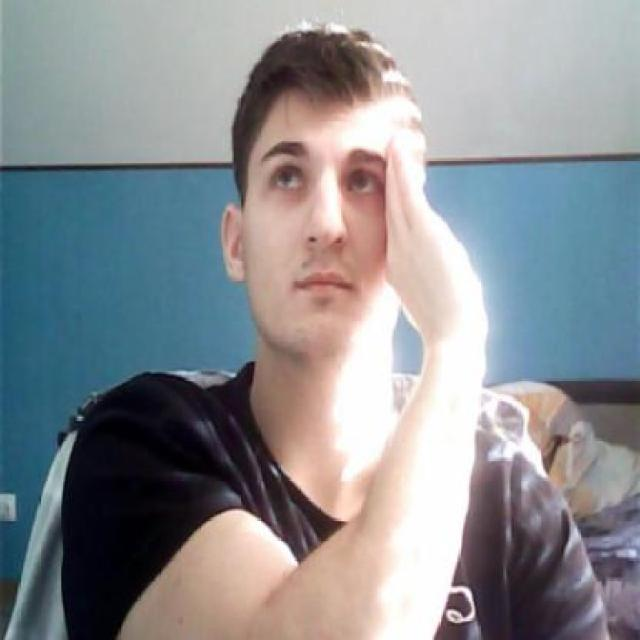awake: (270, 165, 308, 193), (348, 169, 384, 196)
